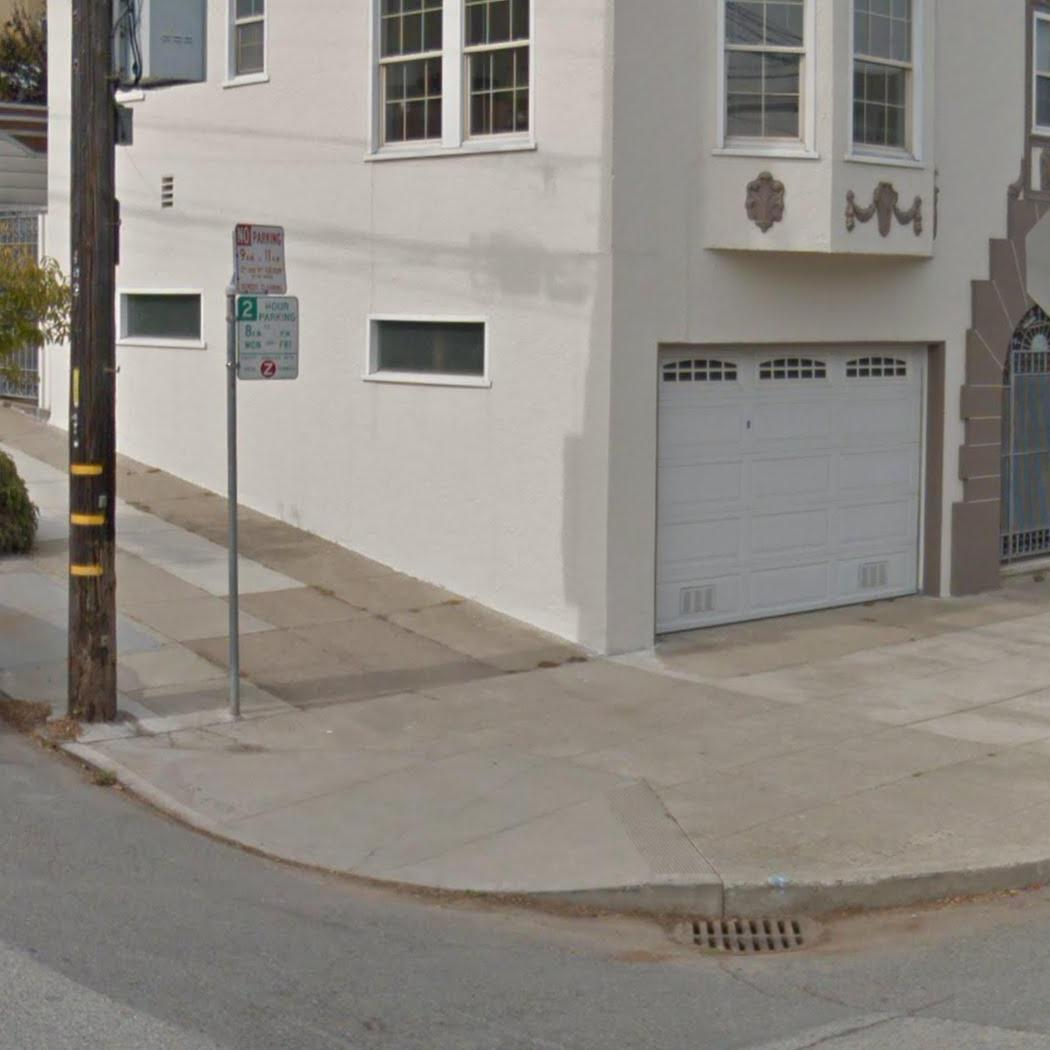2 Hour Parking: (229, 292, 304, 385)
No Parking: (229, 219, 289, 292)
